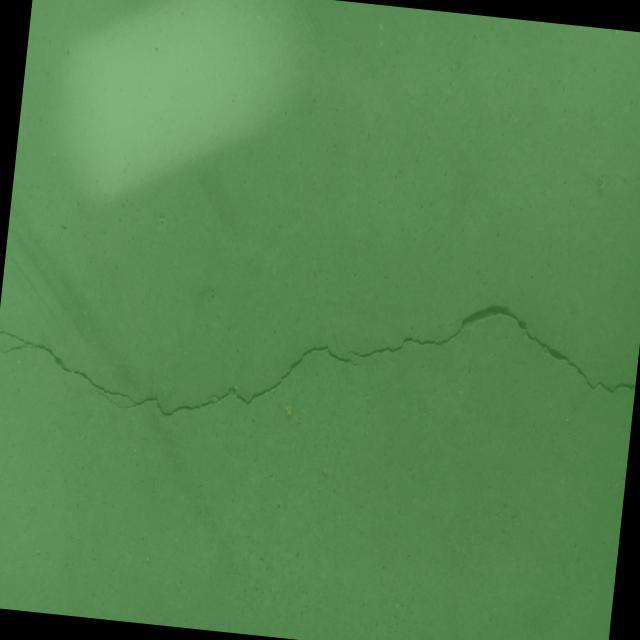crack: (0, 253, 640, 466)
